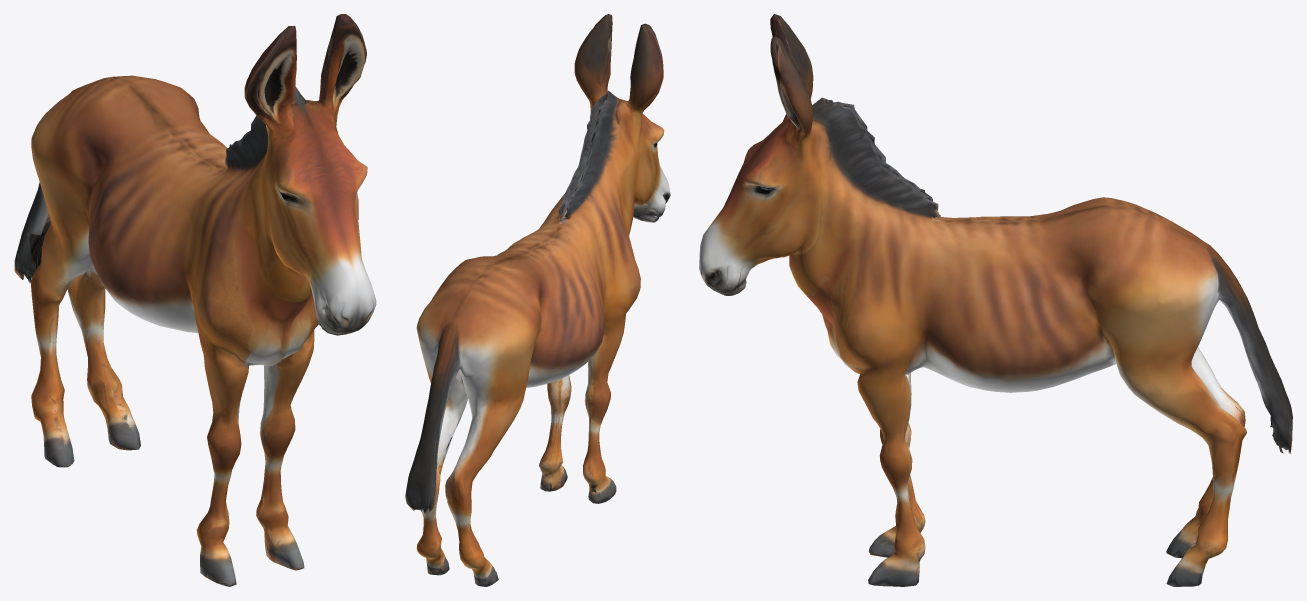
The model's file is _Кулан_Equus_he_0514194322_texture.glb.
3 renders of one model, left to right at view 1: azimuth 30°, elevation 25°; view 2: azimuth 150°, elevation 25°; view 3: azimuth 270°, elevation 25°, orthographic. The views are drawn at different scales.
Bounding box in the file's own units: 0.5818 × 2.01 × 1.99.
Materials: 1 (1 with a texture image).
